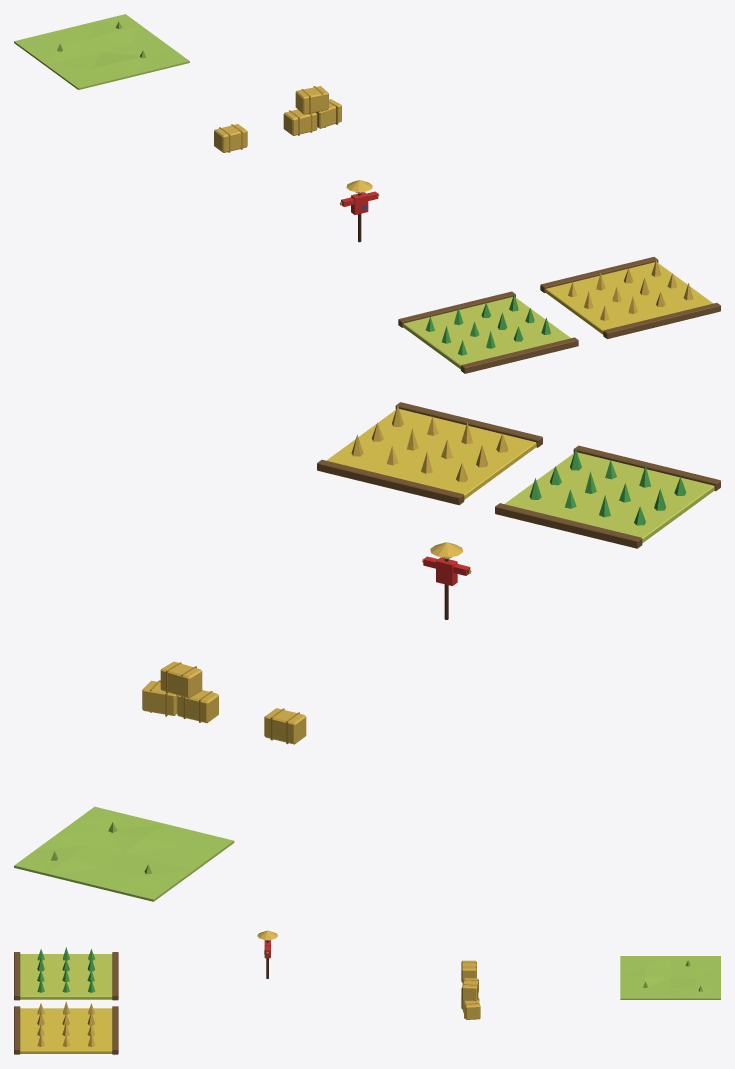
File: kit_ladang_v001.glb
3 renders of one model, top to bottom at view 1: azimuth 30°, elevation 25°; view 2: azimuth 150°, elevation 25°; view 3: azimuth 270°, elevation 25°, orthographic. The views are drawn at different scales.
Parts seen in each view (by area): view 1: Petak_Ladang_B, Petak_Ladang_A, lantai_ladang, Jerami_Tumpuk, Orang_Orangan_Sawah, Jerami_Satu; view 2: Petak_Ladang_B, Petak_Ladang_A, lantai_ladang, Jerami_Tumpuk, Orang_Orangan_Sawah, Jerami_Satu; view 3: Petak_Ladang_A, Petak_Ladang_B, lantai_ladang, Jerami_Tumpuk, Orang_Orangan_Sawah, Jerami_Satu.
Boxes of the visible parts, left/top/right/bottom form: Petak_Ladang_B: left=540, top=257, right=720, bottom=338; Petak_Ladang_A: left=398, top=291, right=578, bottom=373; lantai_ladang: left=14, top=14, right=189, bottom=89; Jerami_Tumpuk: left=283, top=86, right=341, bottom=135; Orang_Orangan_Sawah: left=340, top=180, right=379, bottom=242; Jerami_Satu: left=214, top=124, right=247, bottom=152; Petak_Ladang_B: left=317, top=402, right=542, bottom=505; Petak_Ladang_A: left=495, top=445, right=720, bottom=548; lantai_ladang: left=14, top=806, right=234, bottom=901; Jerami_Tumpuk: left=142, top=661, right=218, bottom=722; Orang_Orangan_Sawah: left=422, top=542, right=471, bottom=619; Jerami_Satu: left=264, top=708, right=306, bottom=744; Petak_Ladang_A: left=14, top=947, right=118, bottom=1000; Petak_Ladang_B: left=14, top=1001, right=118, bottom=1054; lantai_ladang: left=620, top=956, right=720, bottom=999; Jerami_Tumpuk: left=461, top=978, right=480, bottom=1019; Orang_Orangan_Sawah: left=257, top=930, right=277, bottom=978; Jerami_Satu: left=461, top=960, right=476, bottom=982.
Bounding box in the file's own units: 9.2 × 2.11 × 28.08.
